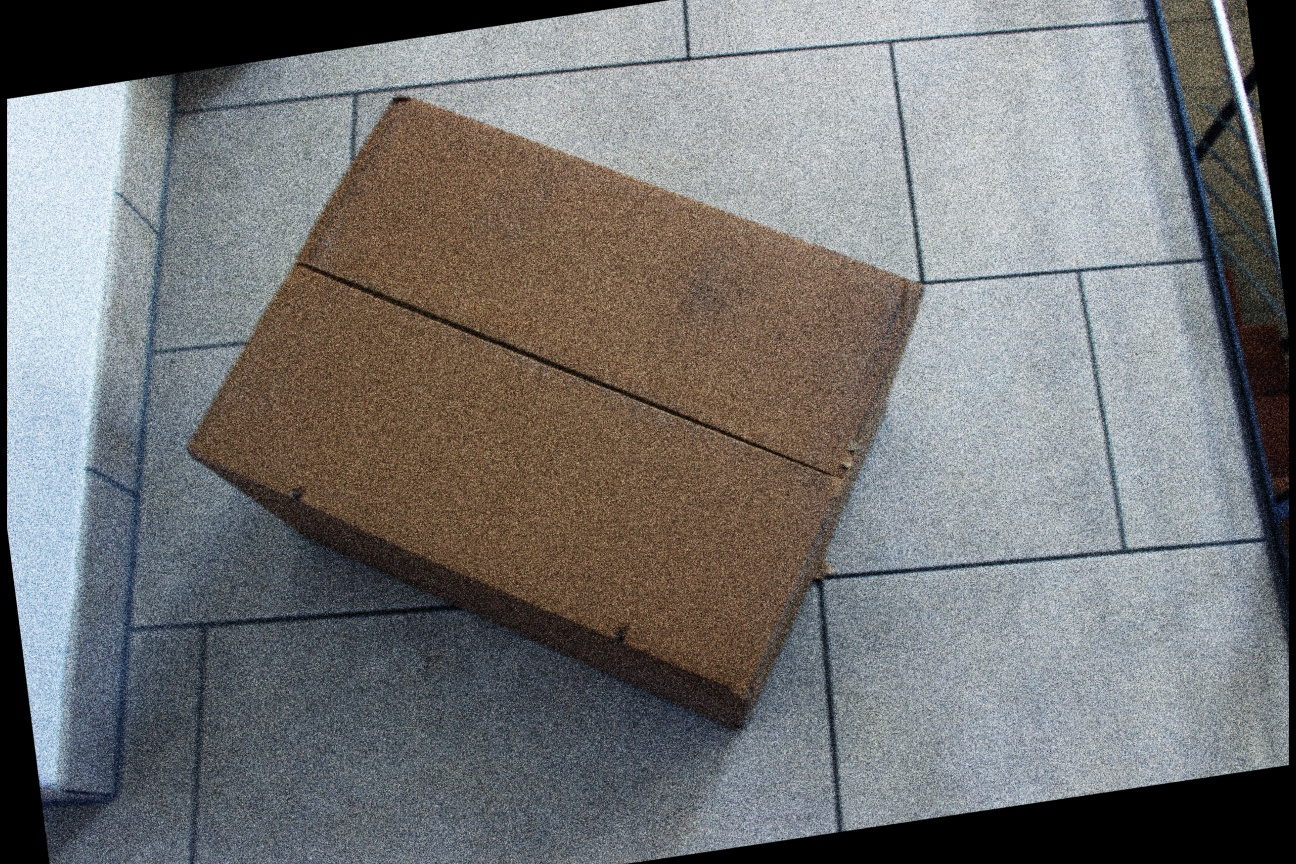good-parcel: (189, 92, 927, 751)
